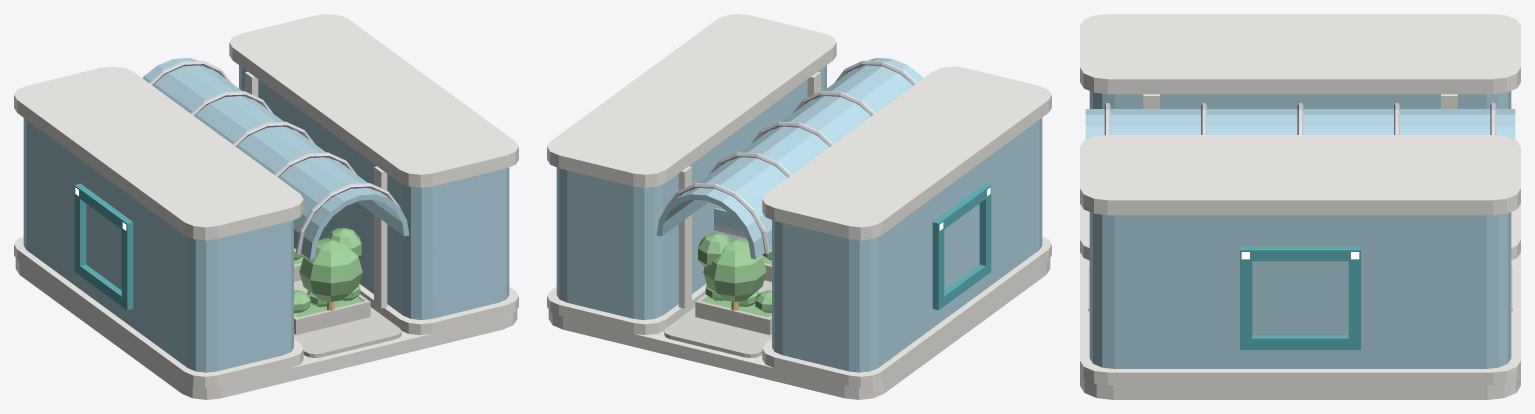
The model's file is arcology-towers-and-skyways-atrium-section-5f9a476a__23240.glb.
3 renders of one model, left to right at view 1: azimuth 30°, elevation 25°; view 2: azimuth 150°, elevation 25°; view 3: azimuth 270°, elevation 25°, orthographic. The views are drawn at different scales.
Visible parts, largest first — view 1: atrium-section; view 2: atrium-section; view 3: atrium-section.
Part boxes in pixels (x1=…): atrium-section: x1=14, y1=14, x2=518, y2=399; atrium-section: x1=547, y1=14, x2=1051, y2=399; atrium-section: x1=1080, y1=14, x2=1520, y2=399.
Size of the model in its own units: 16 by 8 by 16.
